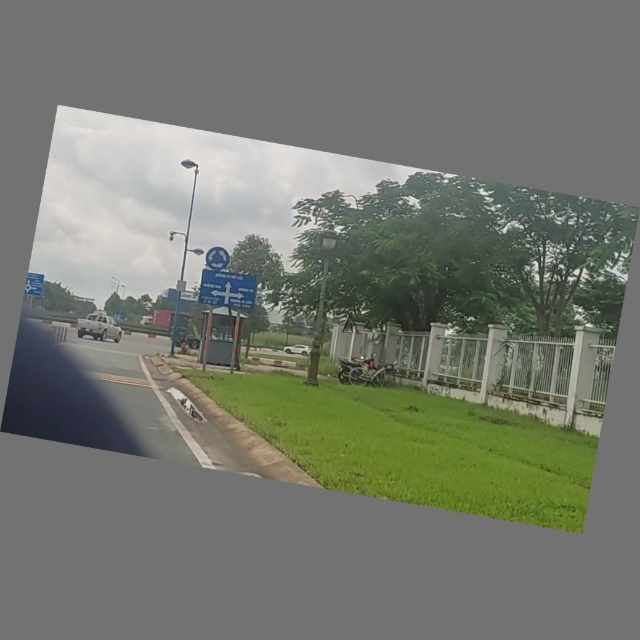R.303: (202, 243, 234, 274)
